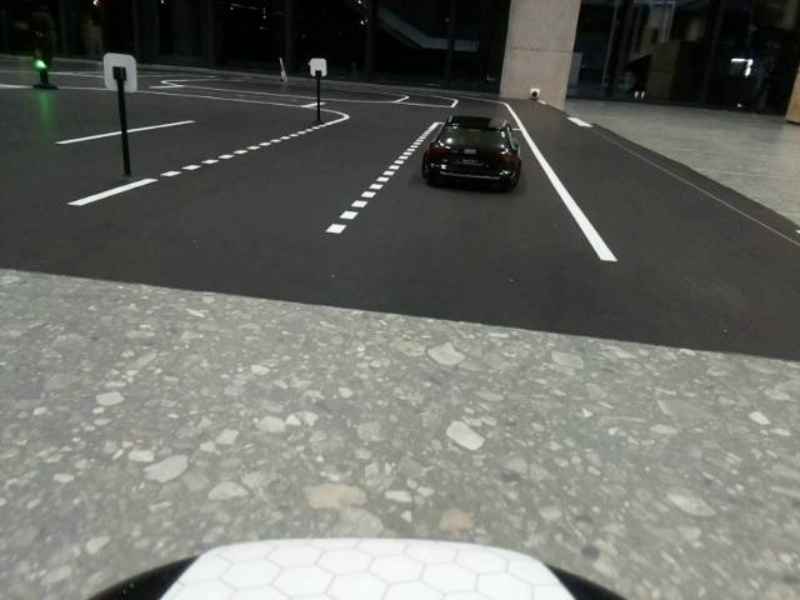car: (416, 110, 526, 197)
